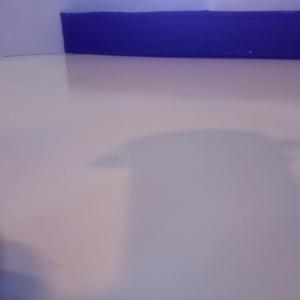zone: (60, 11, 300, 59)
